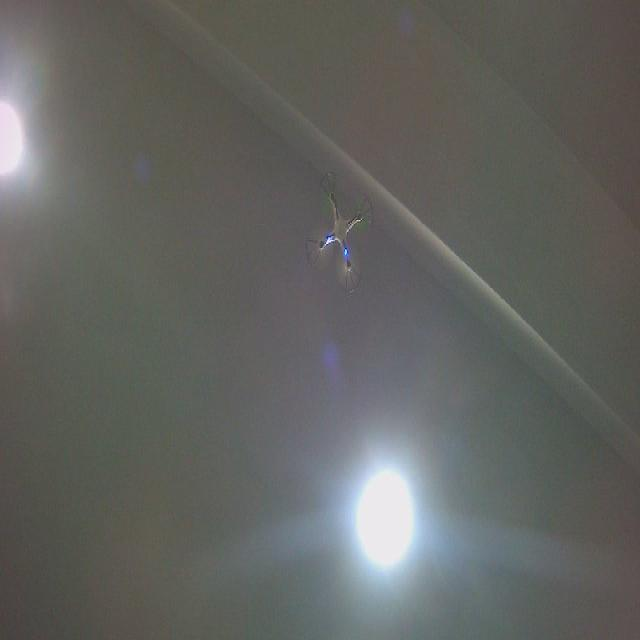drone: (301, 168, 378, 295)
